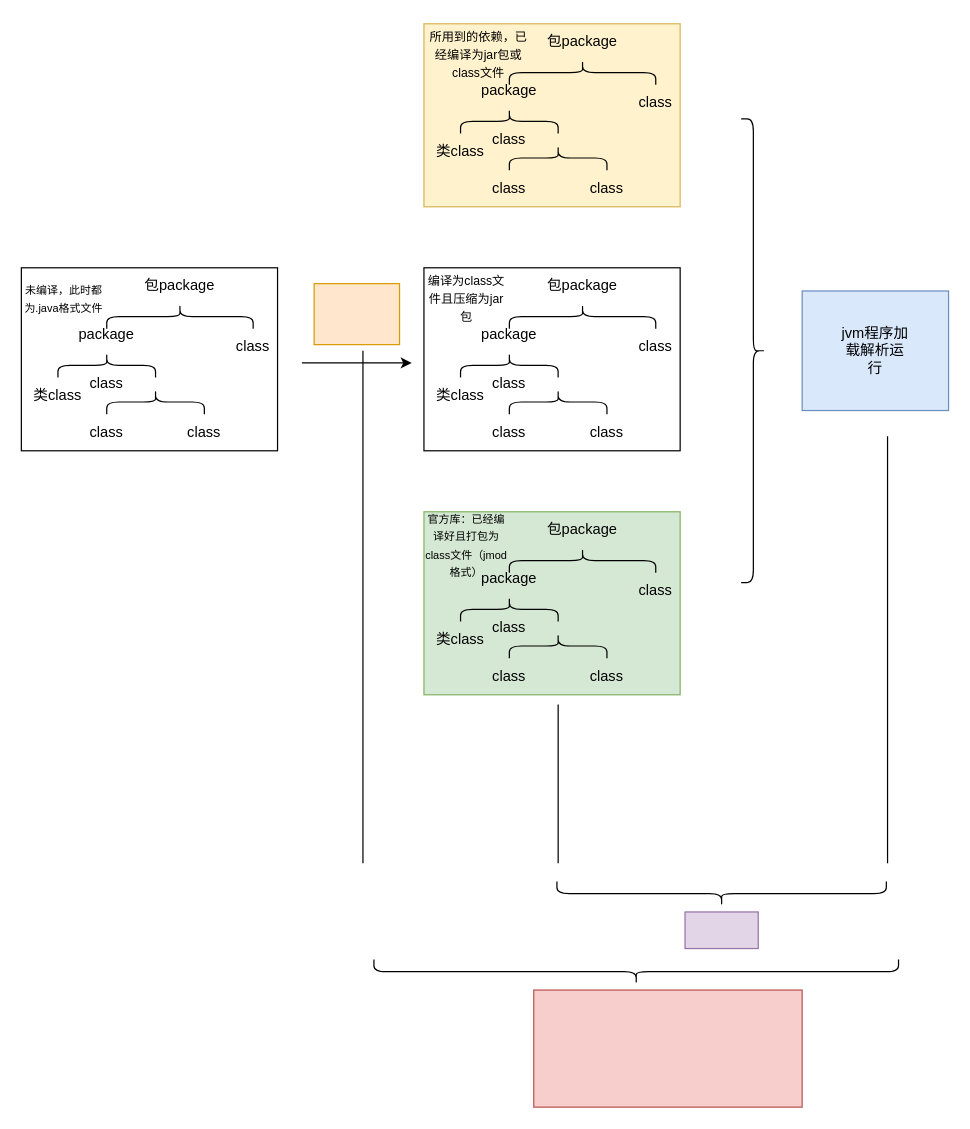
The diagram is 970 pixels wide and 1129 high, and some of its shapes have lost their labels. The box of each missing label's shape, as (x1, y1, x2, y2) in pixels:
javac编译器编译: (313, 282, 400, 345)
jdk(一般在一个文件夹下)，路径已经保存于操作系统的环境变量里，且其中的bin文件中保存了可执行文件，故能直接通过 java Test.java 运行: (533, 989, 802, 1107)
jre: (684, 911, 758, 949)
